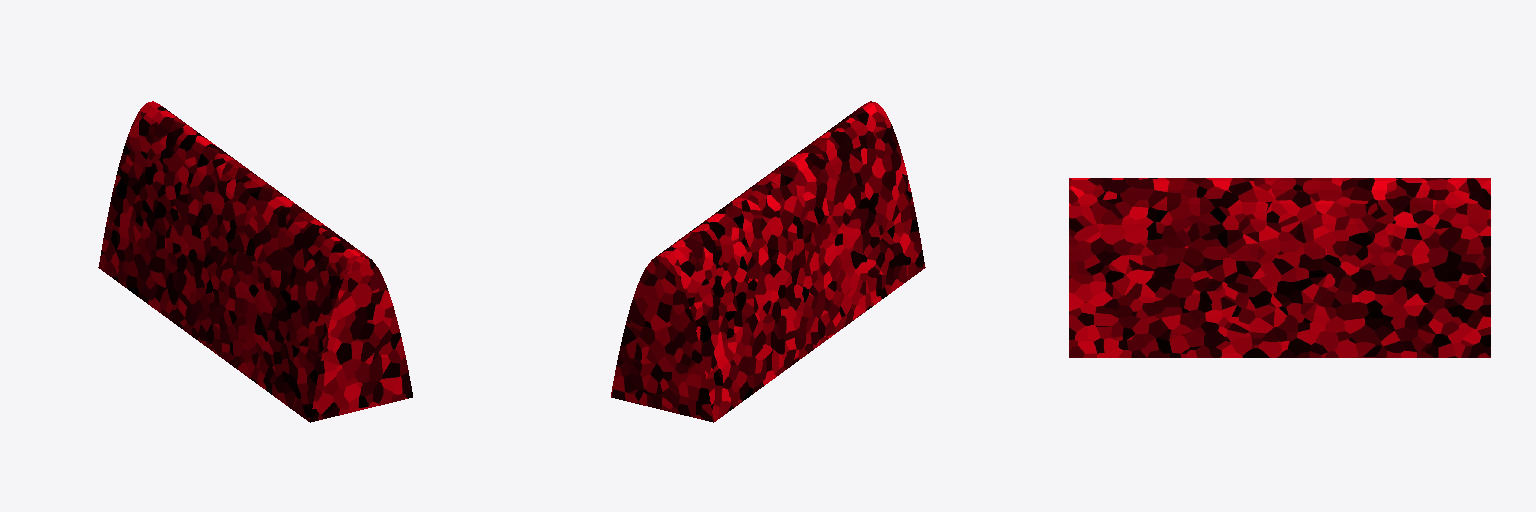
The picture shows the model from 3 angles: view 1: azimuth 30°, elevation 25°; view 2: azimuth 150°, elevation 25°; view 3: azimuth 270°, elevation 25°; orthographic projection.
Parts seen in each view (by area): view 1: object_40.001_Z_Function.002; view 2: object_40.001_Z_Function.002; view 3: object_40.001_Z_Function.002.
Boxes of the visible parts, x1,y1,x2,y2 form: object_40.001_Z_Function.002: [98, 101, 412, 422]; object_40.001_Z_Function.002: [611, 101, 925, 422]; object_40.001_Z_Function.002: [1069, 178, 1490, 357].
Bounding box in the file's own units: 28.3 × 40 × 100.
1 materials, 1 textured.